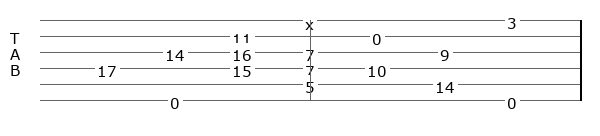0: (170, 93, 184, 108), (372, 29, 386, 44), (507, 93, 521, 108)
10: (367, 61, 391, 76)
11: (232, 29, 256, 44)
14: (165, 45, 189, 60), (435, 77, 459, 92)
15: (232, 61, 256, 76)
16: (232, 45, 256, 60)
17: (97, 61, 121, 76)
3: (507, 13, 521, 28)
5: (305, 77, 319, 92)
7: (305, 61, 319, 76), (305, 45, 319, 60)
9: (440, 45, 454, 60)
x: (305, 14, 318, 26)
